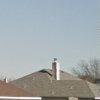Chimney: (45, 54, 74, 83)
